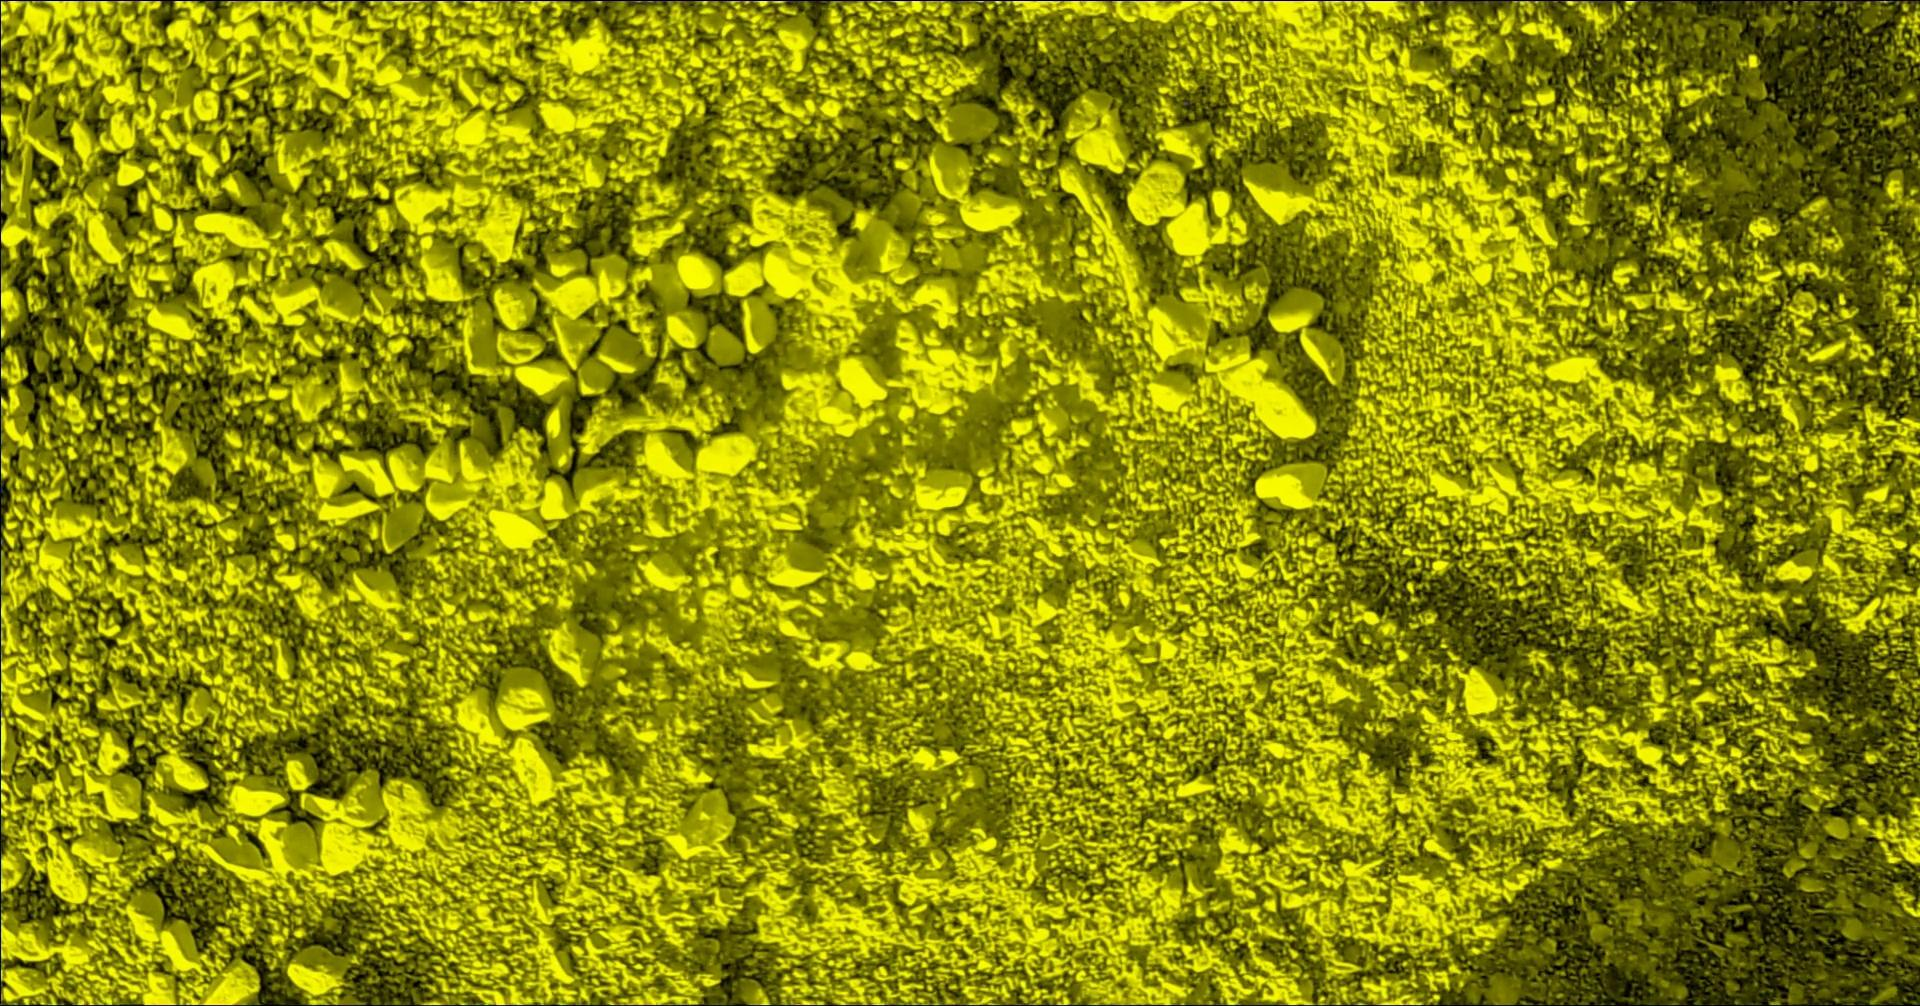ant: (623, 0, 676, 3)
